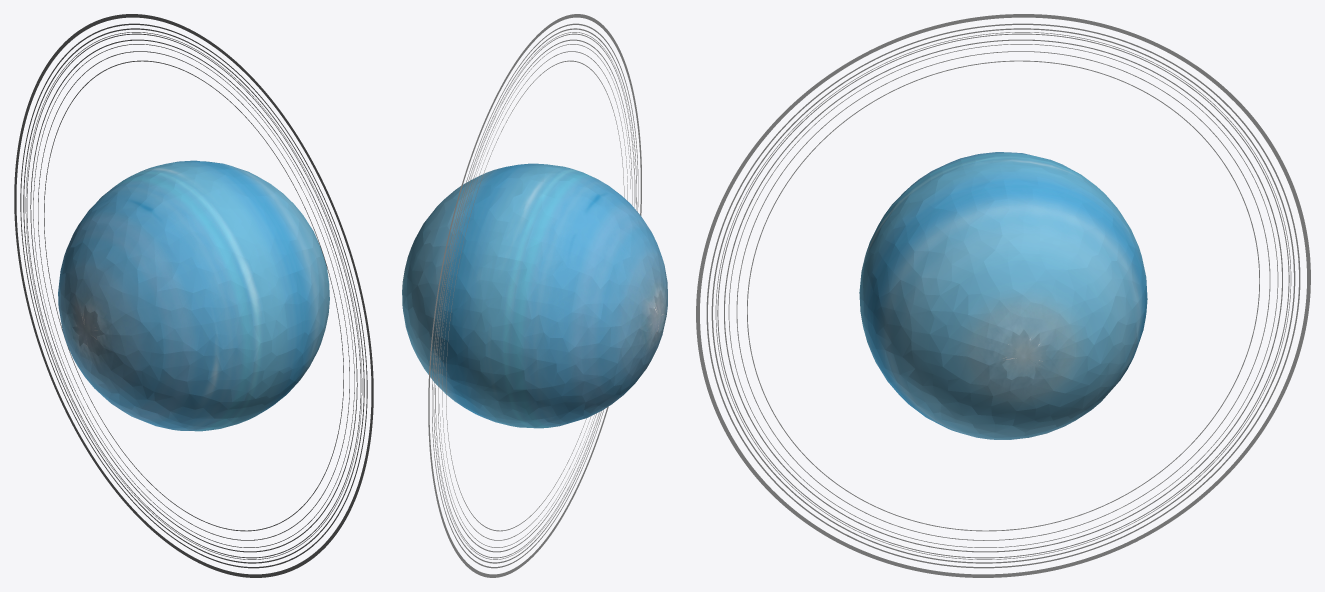
File: uranus.obj
3 renders of one model, left to right at view 1: azimuth 30°, elevation 25°; view 2: azimuth 150°, elevation 25°; view 3: azimuth 270°, elevation 25°, orthographic. The views are drawn at different scales.
Bounding box in the file's own units: 460 × 984 × 975.
